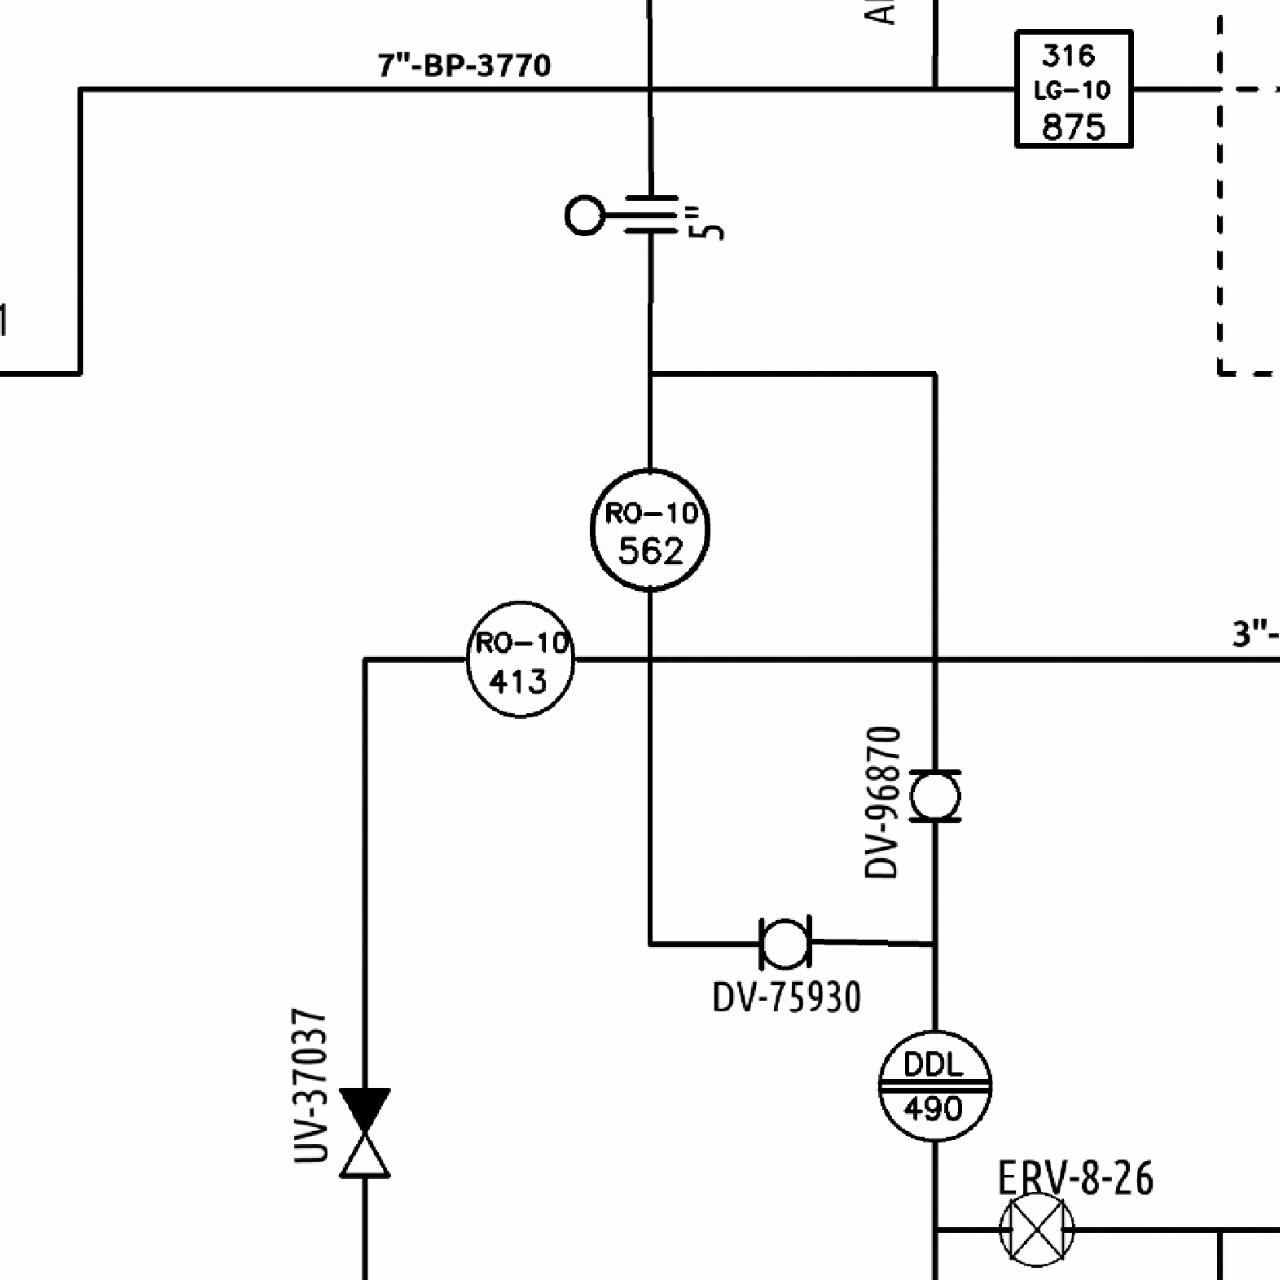Control-Panel: (583, 463, 715, 595), (456, 595, 583, 722), (869, 1021, 993, 1148)
Half closed valve: (334, 1082, 394, 1182)
